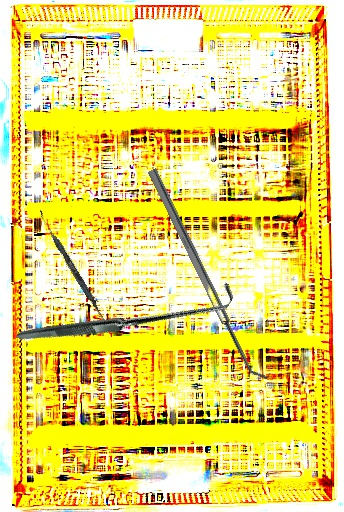Hook Surgical: (15, 203, 239, 424)
Spatula Surgical: (147, 164, 269, 386), (34, 210, 111, 325)
